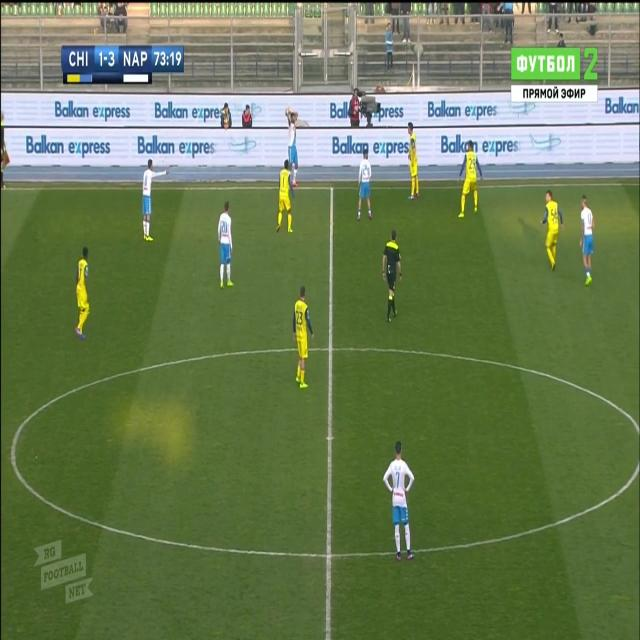Player: (382, 438, 418, 564), (140, 156, 170, 248), (293, 283, 315, 393), (456, 139, 484, 220), (540, 189, 565, 272), (72, 246, 93, 344), (216, 200, 236, 294), (579, 193, 596, 286), (275, 159, 295, 235), (354, 150, 374, 224), (406, 122, 422, 201), (286, 106, 301, 188)
Referee: (380, 230, 404, 325)
